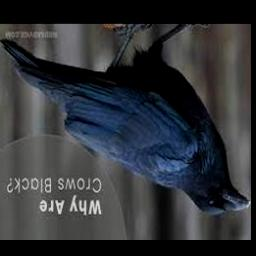Crow: (1, 25, 251, 215)
